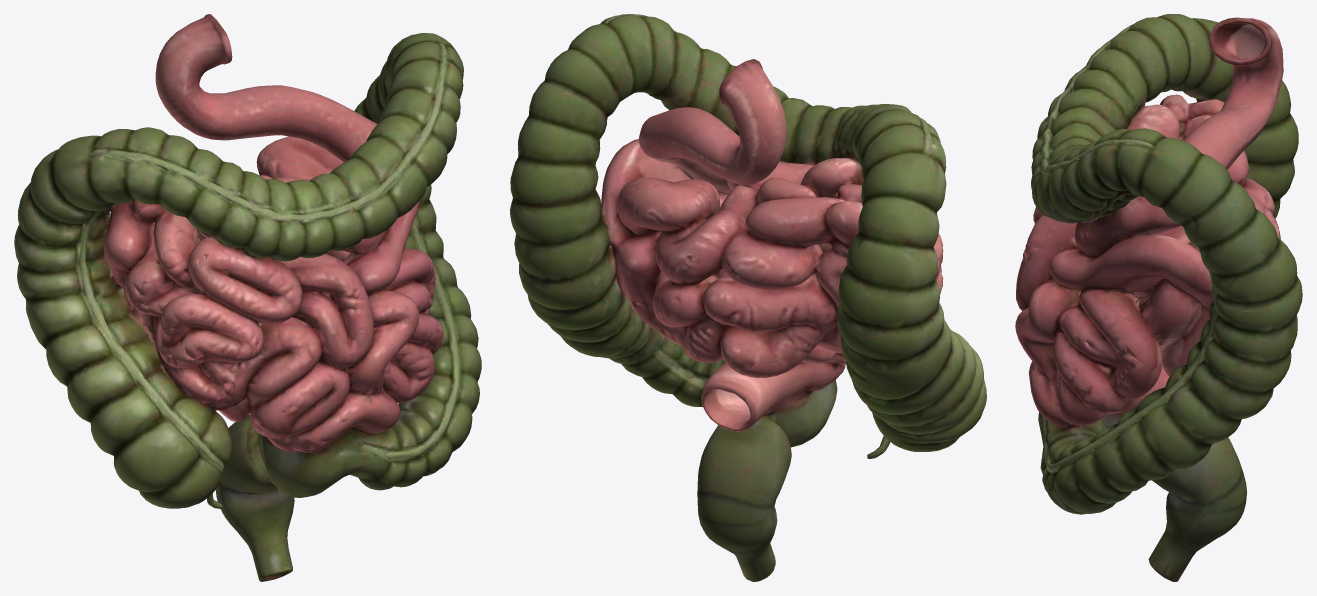
The model's file is gut.glb.
3 views of the same model, side by side, from view 1: azimuth 30°, elevation 25°; view 2: azimuth 150°, elevation 25°; view 3: azimuth 270°, elevation 25° (orthographic).
Size of the model in its own units: 1.5 by 1.9 by 0.8985.
1 material, 1 textured.
